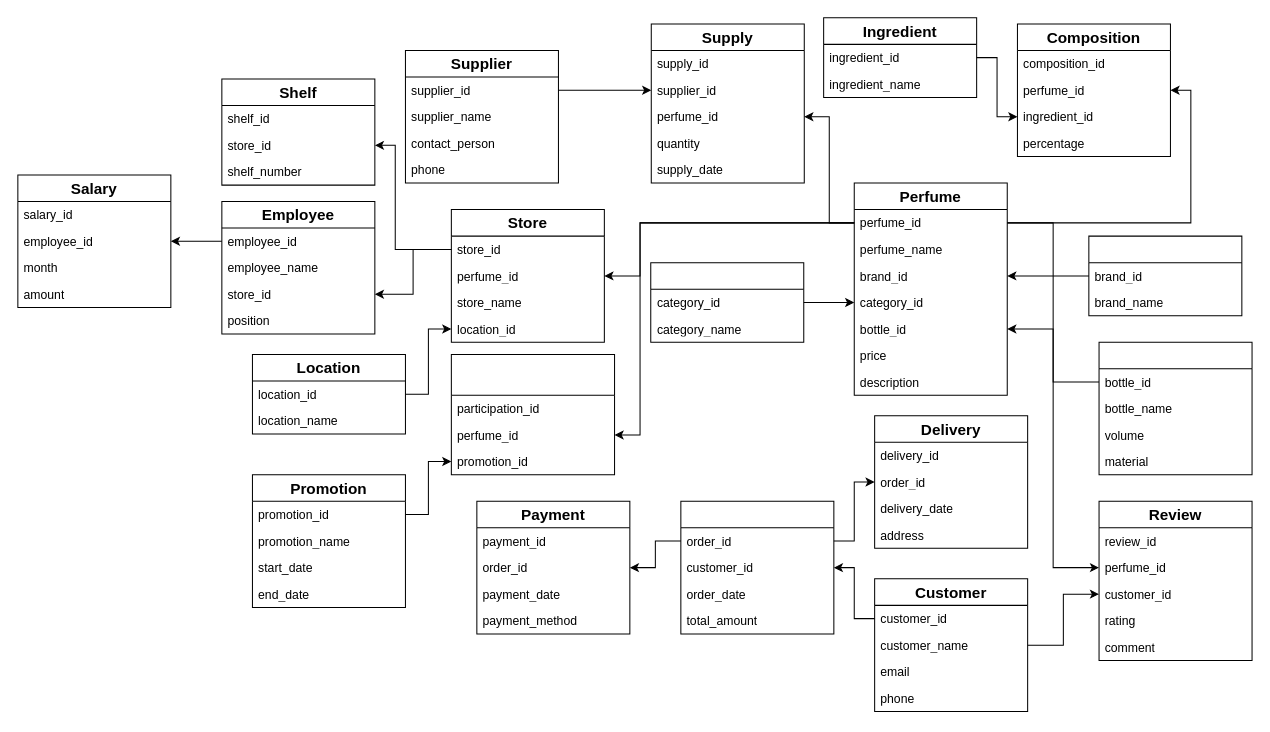
Image size: 1270x732. Some labels were removed from this diagram. Each missing label, with the box of its shape:
Bottles: (1098, 341, 1252, 475)
Brands: (1088, 235, 1242, 316)
Categories: (650, 262, 804, 342)
Orders: (680, 500, 834, 634)
PromotionParticipation: (450, 353, 615, 475)
